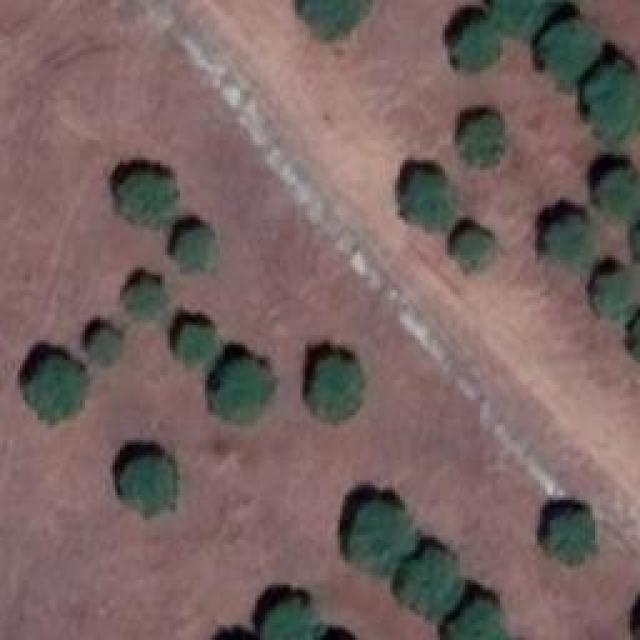Tree: (345, 500, 409, 572), (398, 555, 462, 615), (582, 73, 640, 138), (303, 358, 363, 420), (215, 360, 272, 423), (123, 457, 178, 516), (540, 510, 600, 564), (400, 173, 456, 226), (25, 360, 78, 415), (540, 215, 595, 268), (450, 18, 506, 69), (297, 0, 369, 39), (125, 175, 178, 227), (590, 168, 639, 222), (543, 25, 598, 73), (260, 597, 317, 640), (168, 220, 215, 270), (462, 118, 508, 169), (120, 277, 167, 323), (450, 597, 500, 640), (590, 272, 635, 318), (500, 0, 551, 38), (173, 325, 215, 366), (455, 233, 497, 273), (90, 325, 130, 360), (627, 319, 640, 352)
